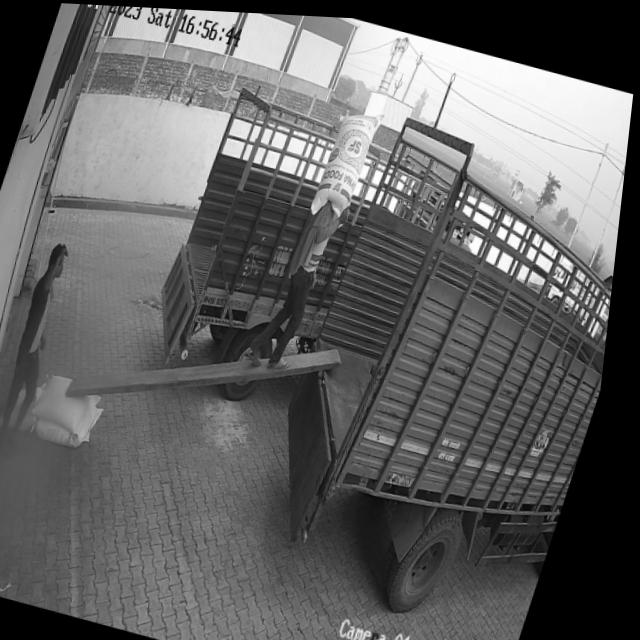sack: (310, 98, 386, 222), (36, 368, 115, 435), (38, 391, 114, 451)
